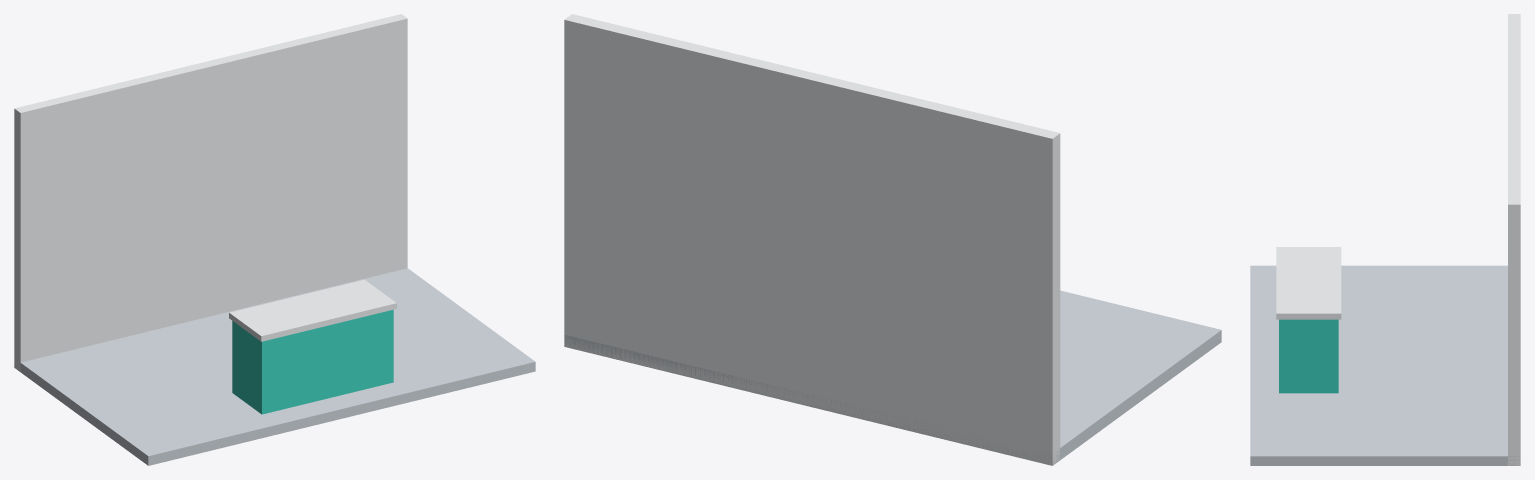
3 views of the same model, side by side, from view 1: azimuth 30°, elevation 25°; view 2: azimuth 150°, elevation 25°; view 3: azimuth 270°, elevation 25° (orthographic). The views are drawn at different scales.
Visible parts, largest first — view 1: Exhibition Booth Concept; view 2: Exhibition Booth Concept; view 3: Exhibition Booth Concept.
Boxes of the visible parts, x1=… form: Exhibition Booth Concept: x1=14, y1=14, x2=535, y2=465; Exhibition Booth Concept: x1=564, y1=14, x2=1221, y2=465; Exhibition Booth Concept: x1=1250, y1=14, x2=1520, y2=465.
Size of the model in its own units: 5 by 3.2 by 3.
